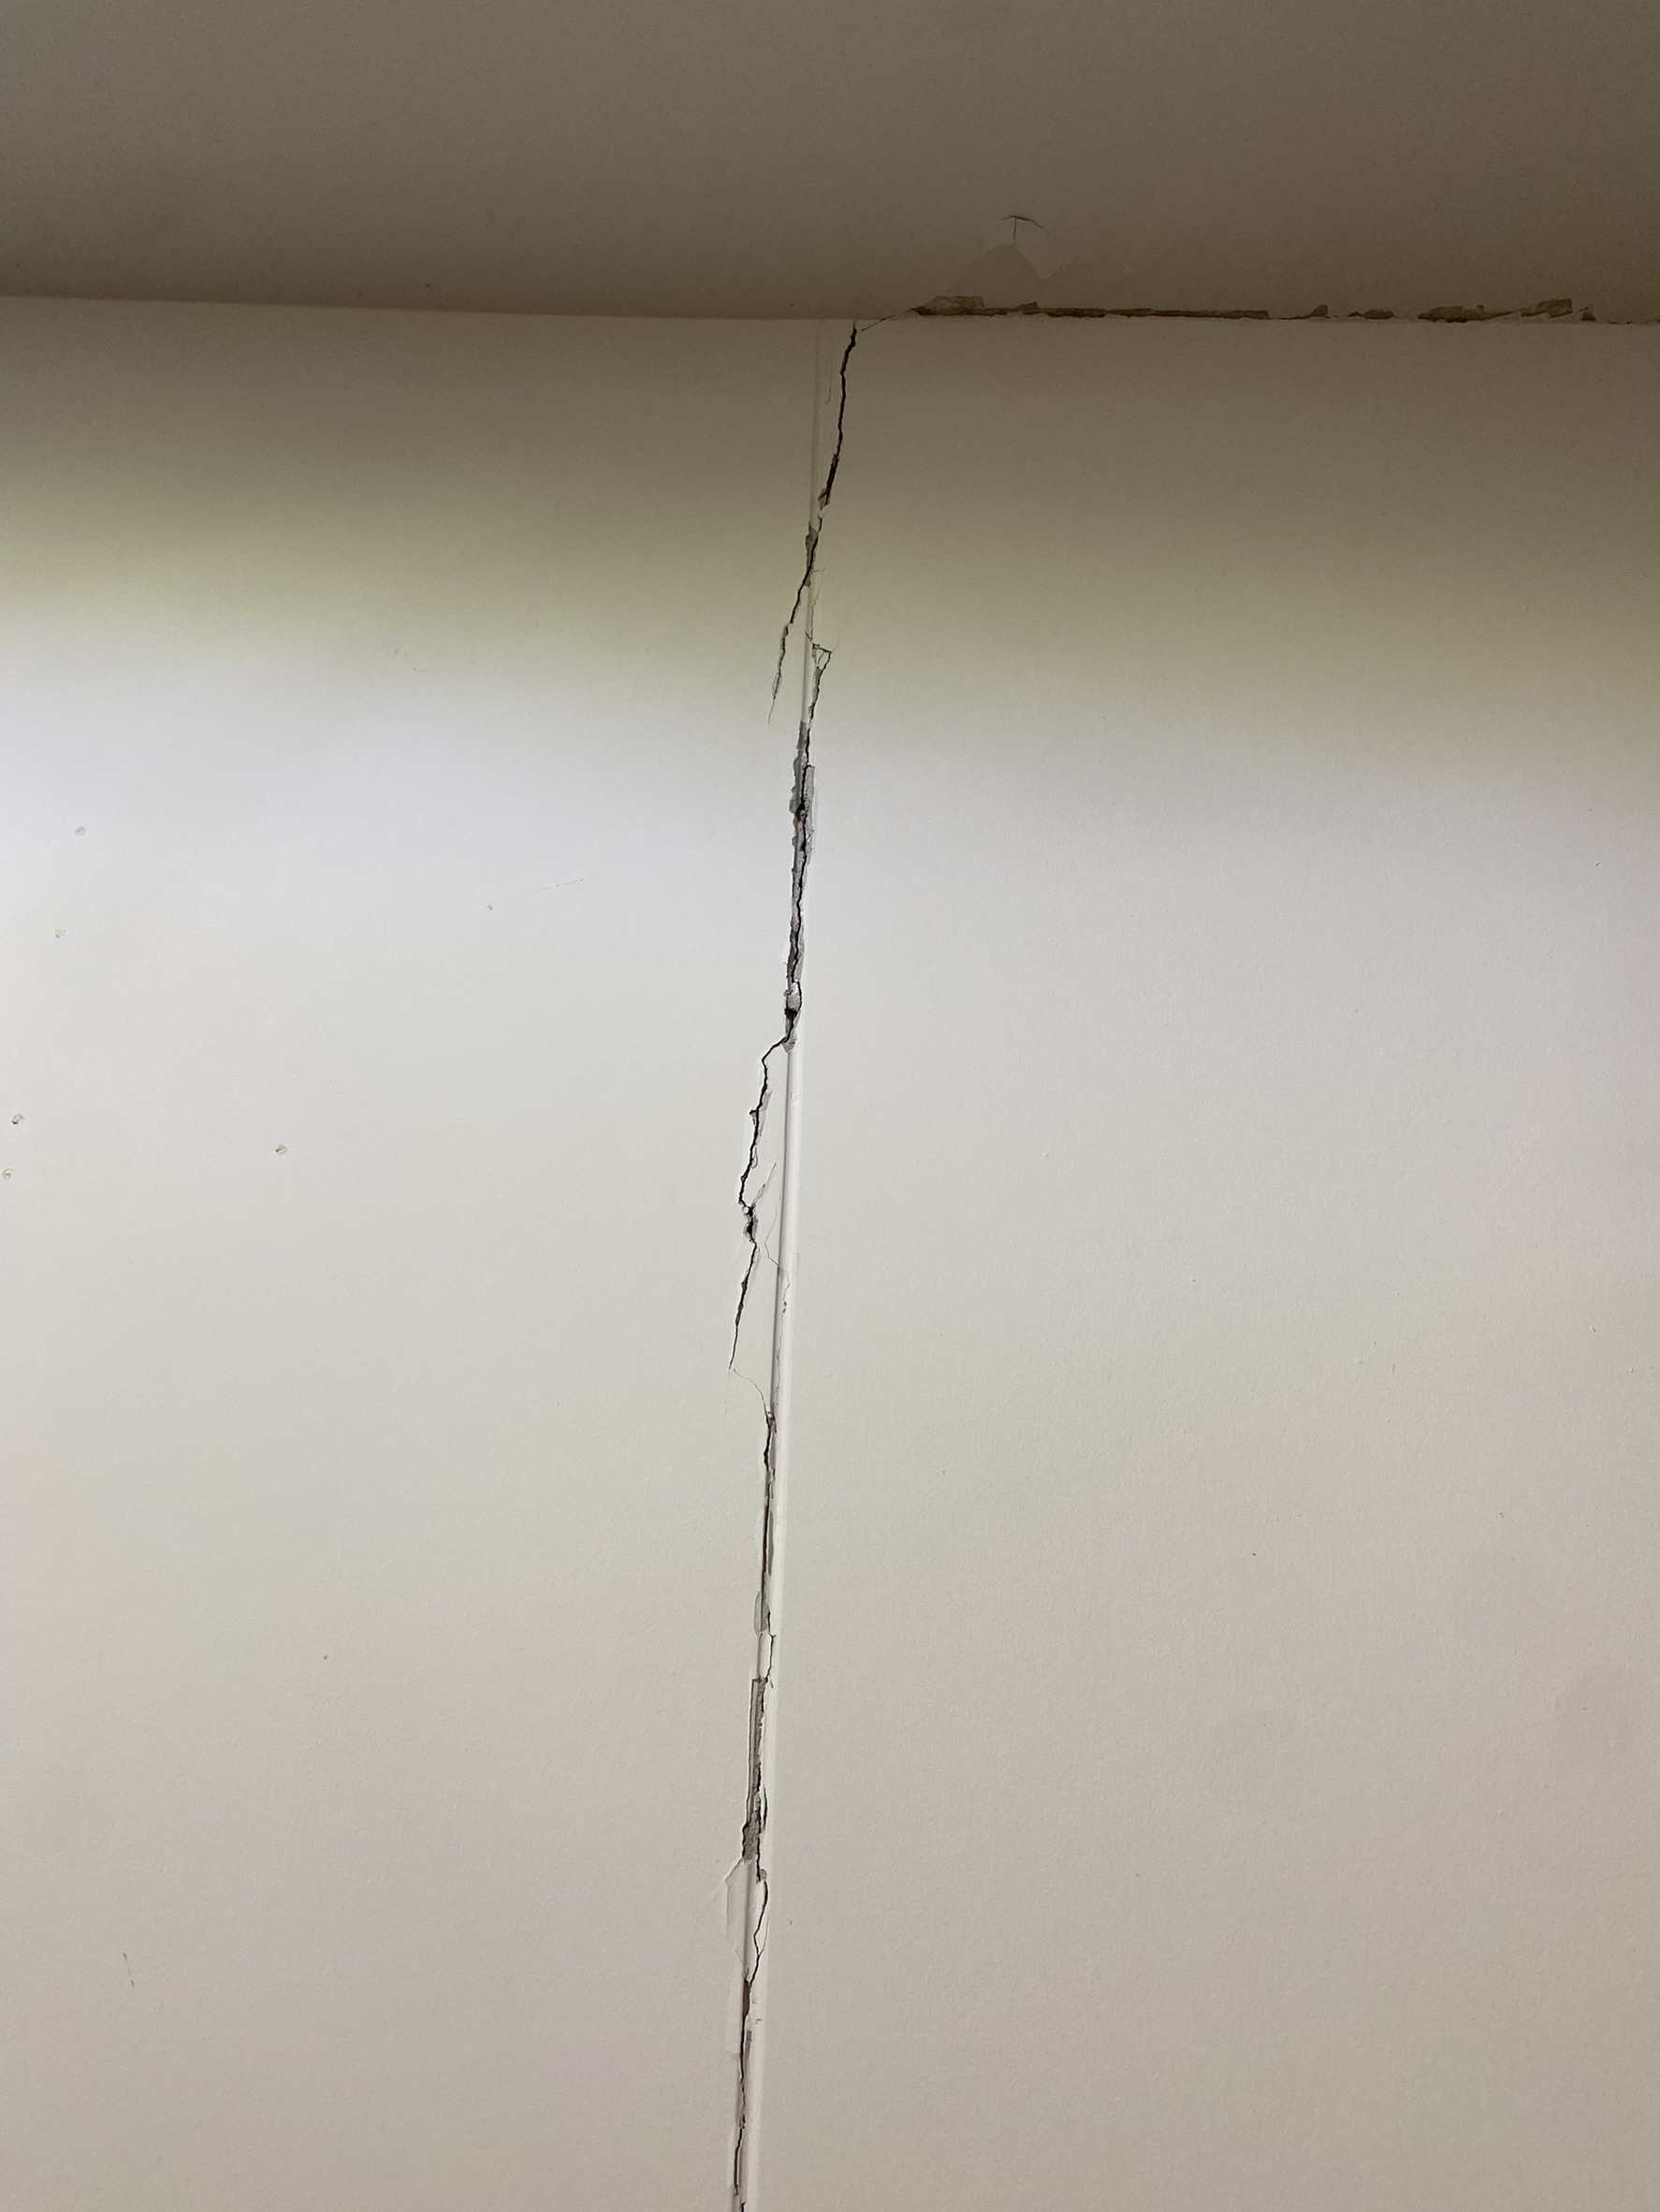Low: (673, 288, 936, 2207)
